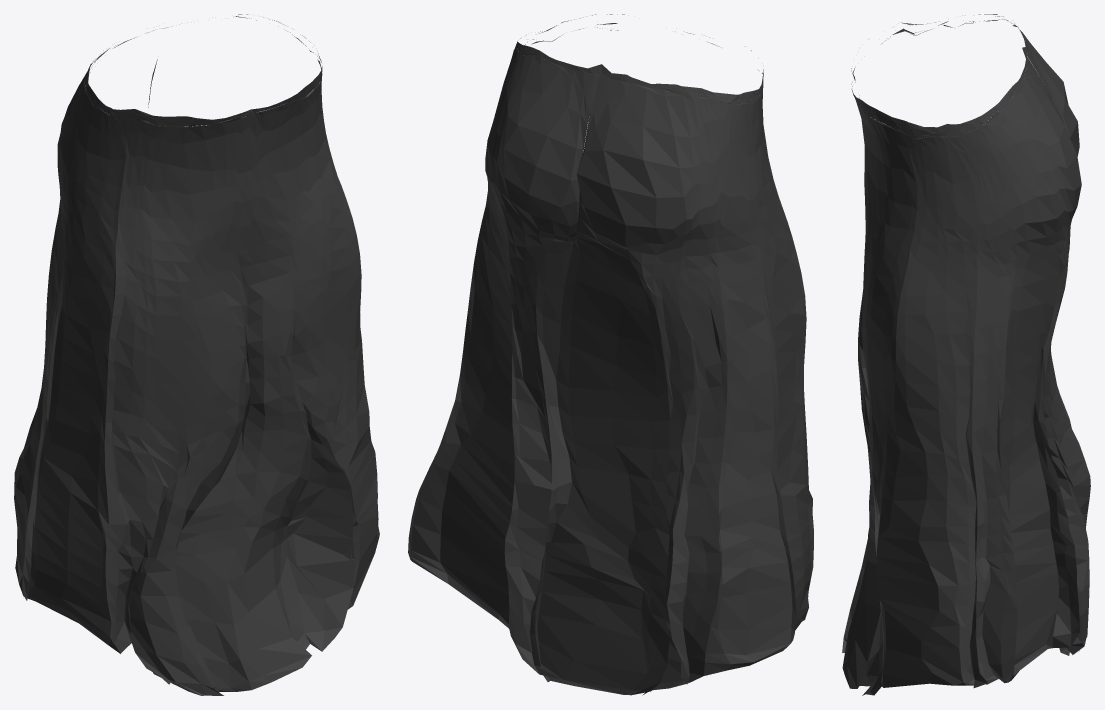
Rendered from cc_longskirt.glb.
3 views of the same model, side by side, from view 1: azimuth 30°, elevation 25°; view 2: azimuth 150°, elevation 25°; view 3: azimuth 270°, elevation 25° (orthographic). The views are drawn at different scales.
Visible parts, largest first — view 1: geometry_0; view 2: geometry_0; view 3: geometry_0.
Boxes of the visible parts, left/top/right/bottom form: geometry_0: left=14, top=14, right=379, bottom=695; geometry_0: left=408, top=14, right=813, bottom=695; geometry_0: left=842, top=14, right=1090, bottom=695.
Bounding box in the file's own units: 0.3373 × 0.5492 × 0.198.
Materials: 1 (1 with a texture image).
